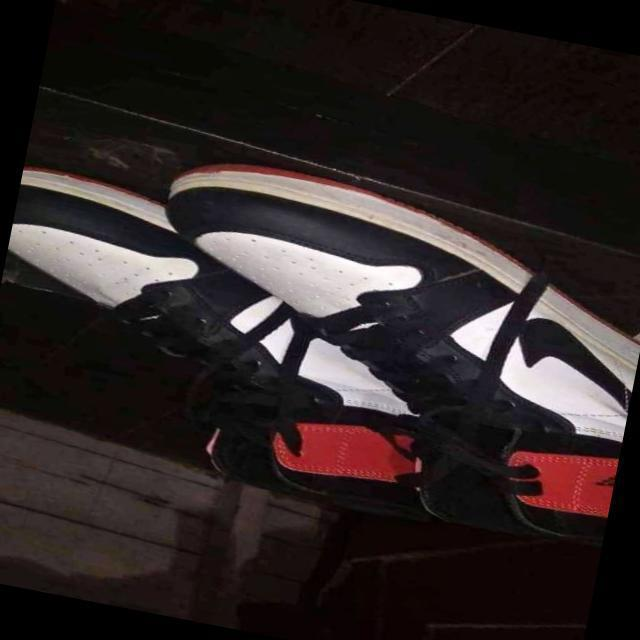nike fake jordan 1: (110, 144, 640, 553), (0, 163, 469, 519)
